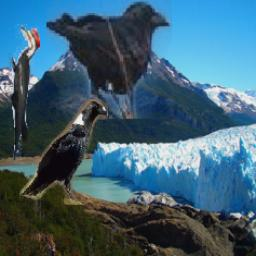Crow: (46, 0, 172, 119), (19, 100, 108, 206)
Woodpecker: (10, 25, 41, 161)
